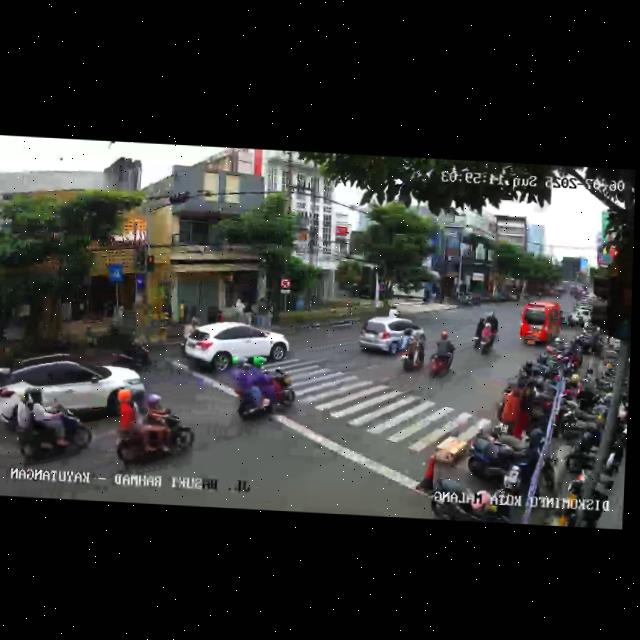car: (0, 349, 146, 427), (180, 318, 289, 378), (356, 313, 423, 359), (518, 300, 563, 349)
motorcycle: (112, 389, 195, 473), (7, 393, 93, 467), (228, 355, 294, 427), (108, 332, 154, 372), (426, 329, 457, 381), (396, 324, 424, 374), (476, 313, 498, 355)
